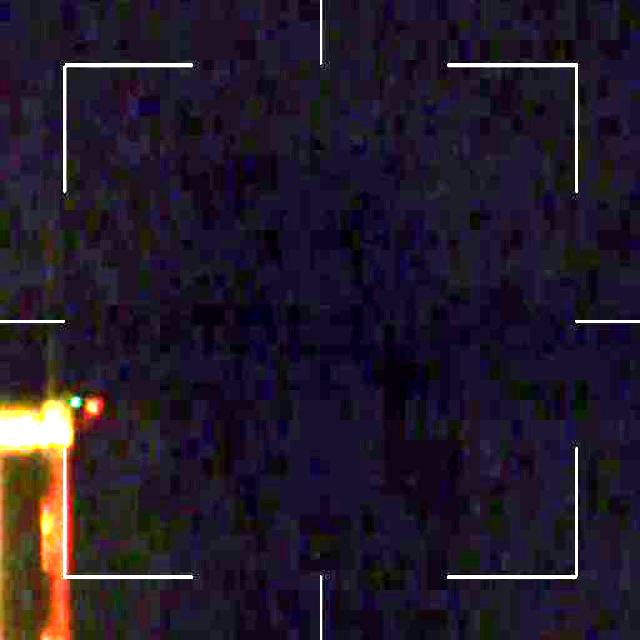bird: (70, 392, 104, 422)
